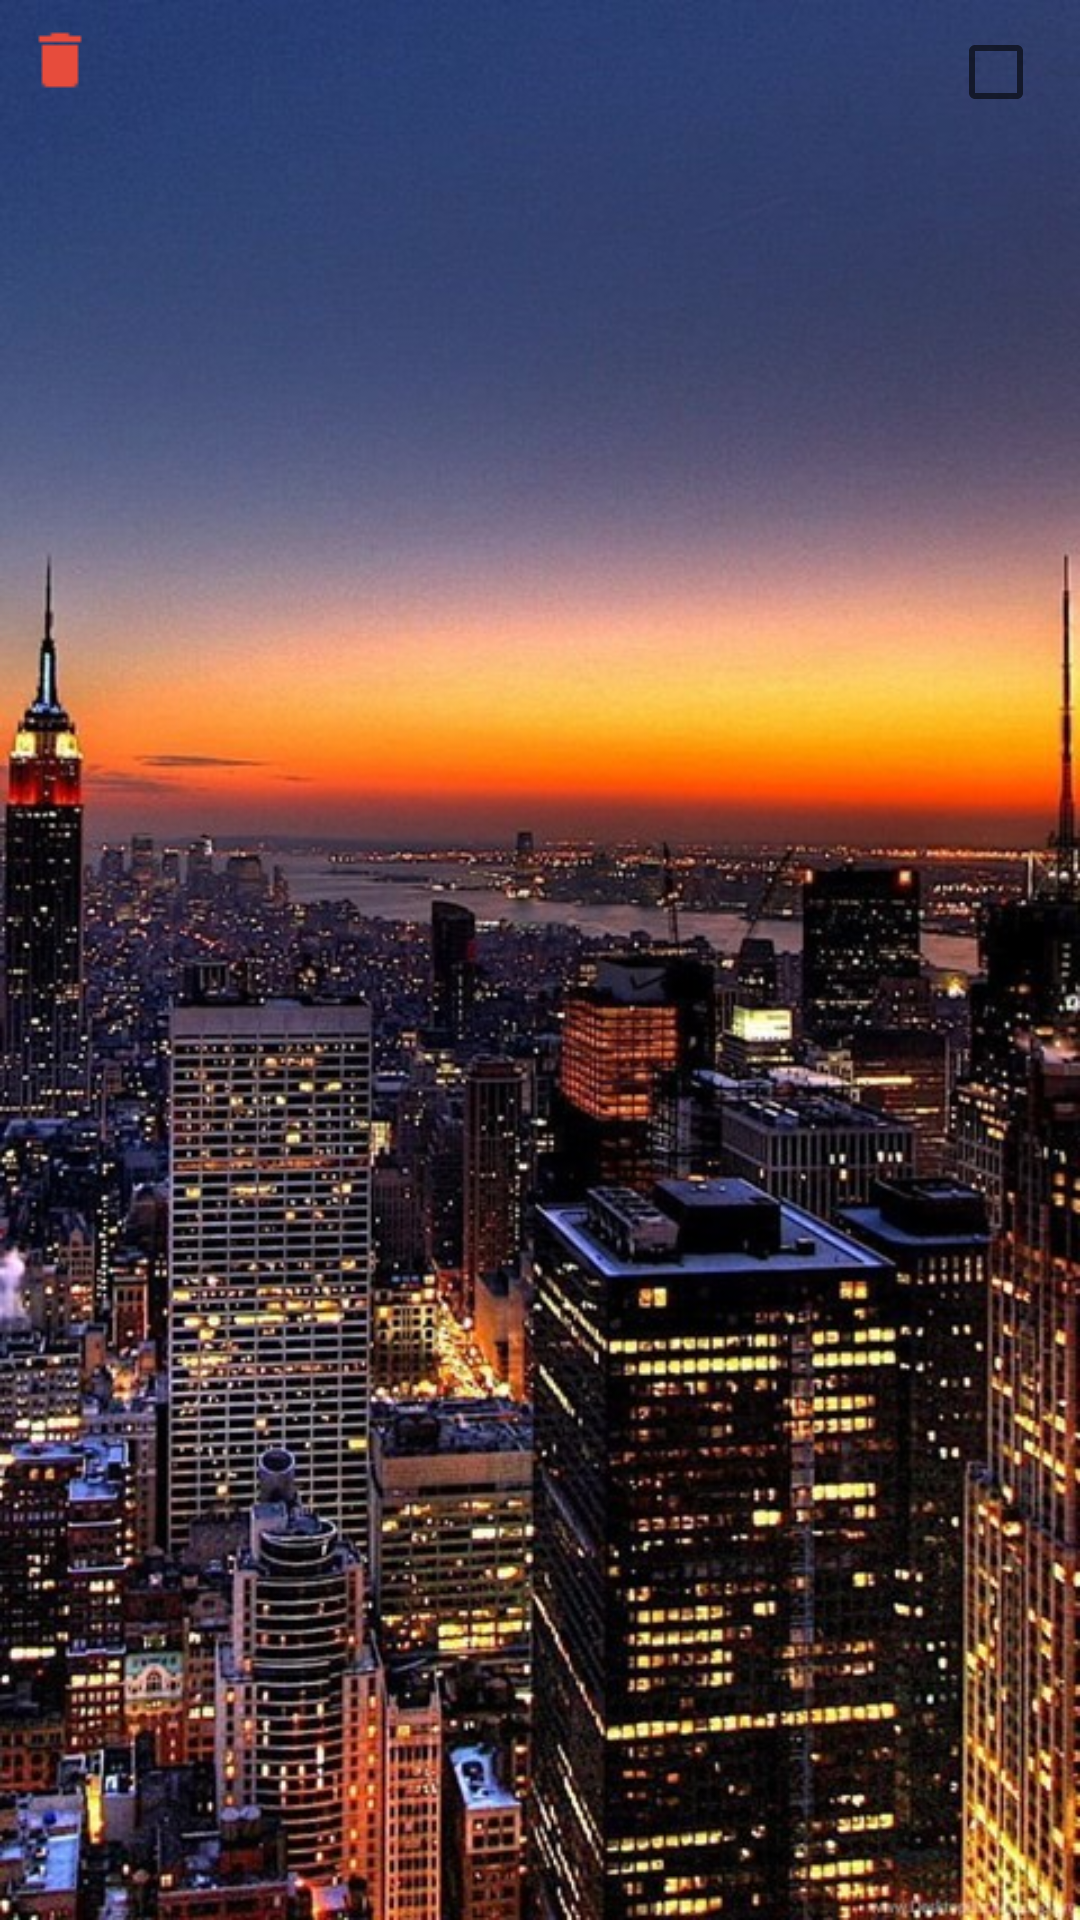

Where icons sit on this 1080×1920 app screen, as (x1, y1, x2, y2):
delete: (38, 32, 82, 88)
